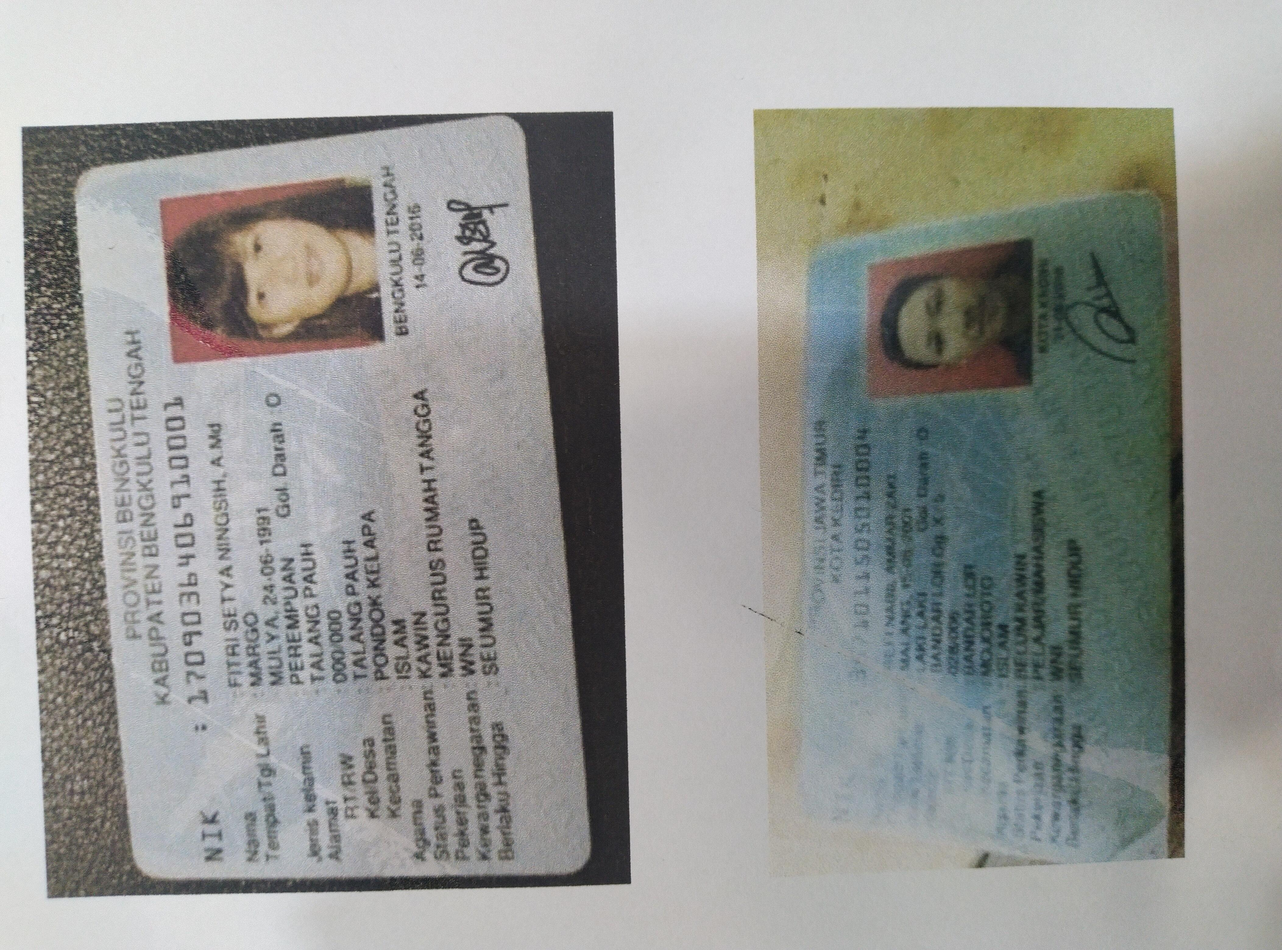ID-card: (86, 54, 1116, 438), (117, 595, 1011, 855)
